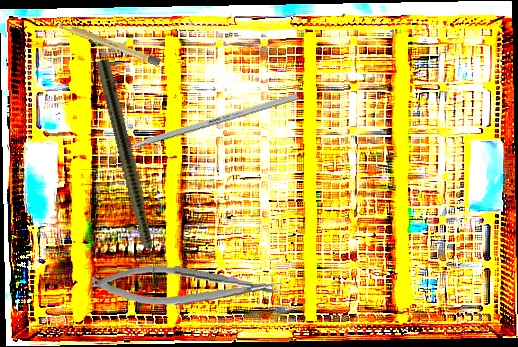Handpiece: (93, 58, 166, 289)
Needle Holder: (90, 260, 285, 314)
Pusher: (91, 92, 299, 163)
Scalpel Handle: (54, 19, 162, 67)
